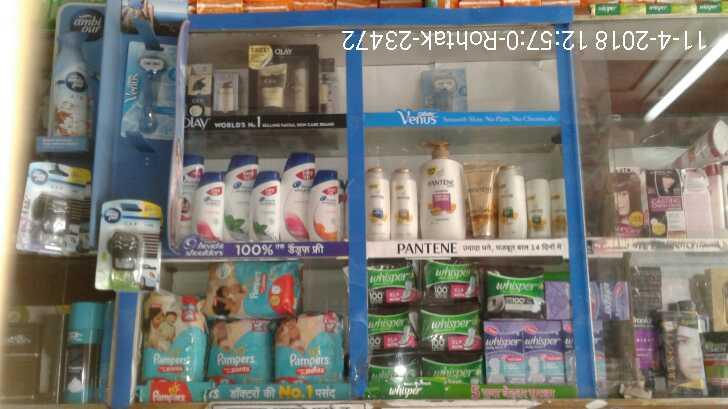ambipureVesus: (36, 2, 107, 151), (18, 161, 92, 254), (94, 198, 160, 293)
venus: (120, 38, 174, 140), (422, 66, 467, 113)
